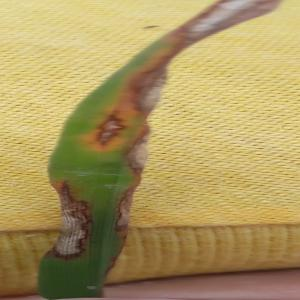Busuk Leher: (56, 184, 88, 259), (94, 107, 129, 153), (113, 177, 139, 237), (132, 64, 160, 110), (129, 121, 150, 175)
